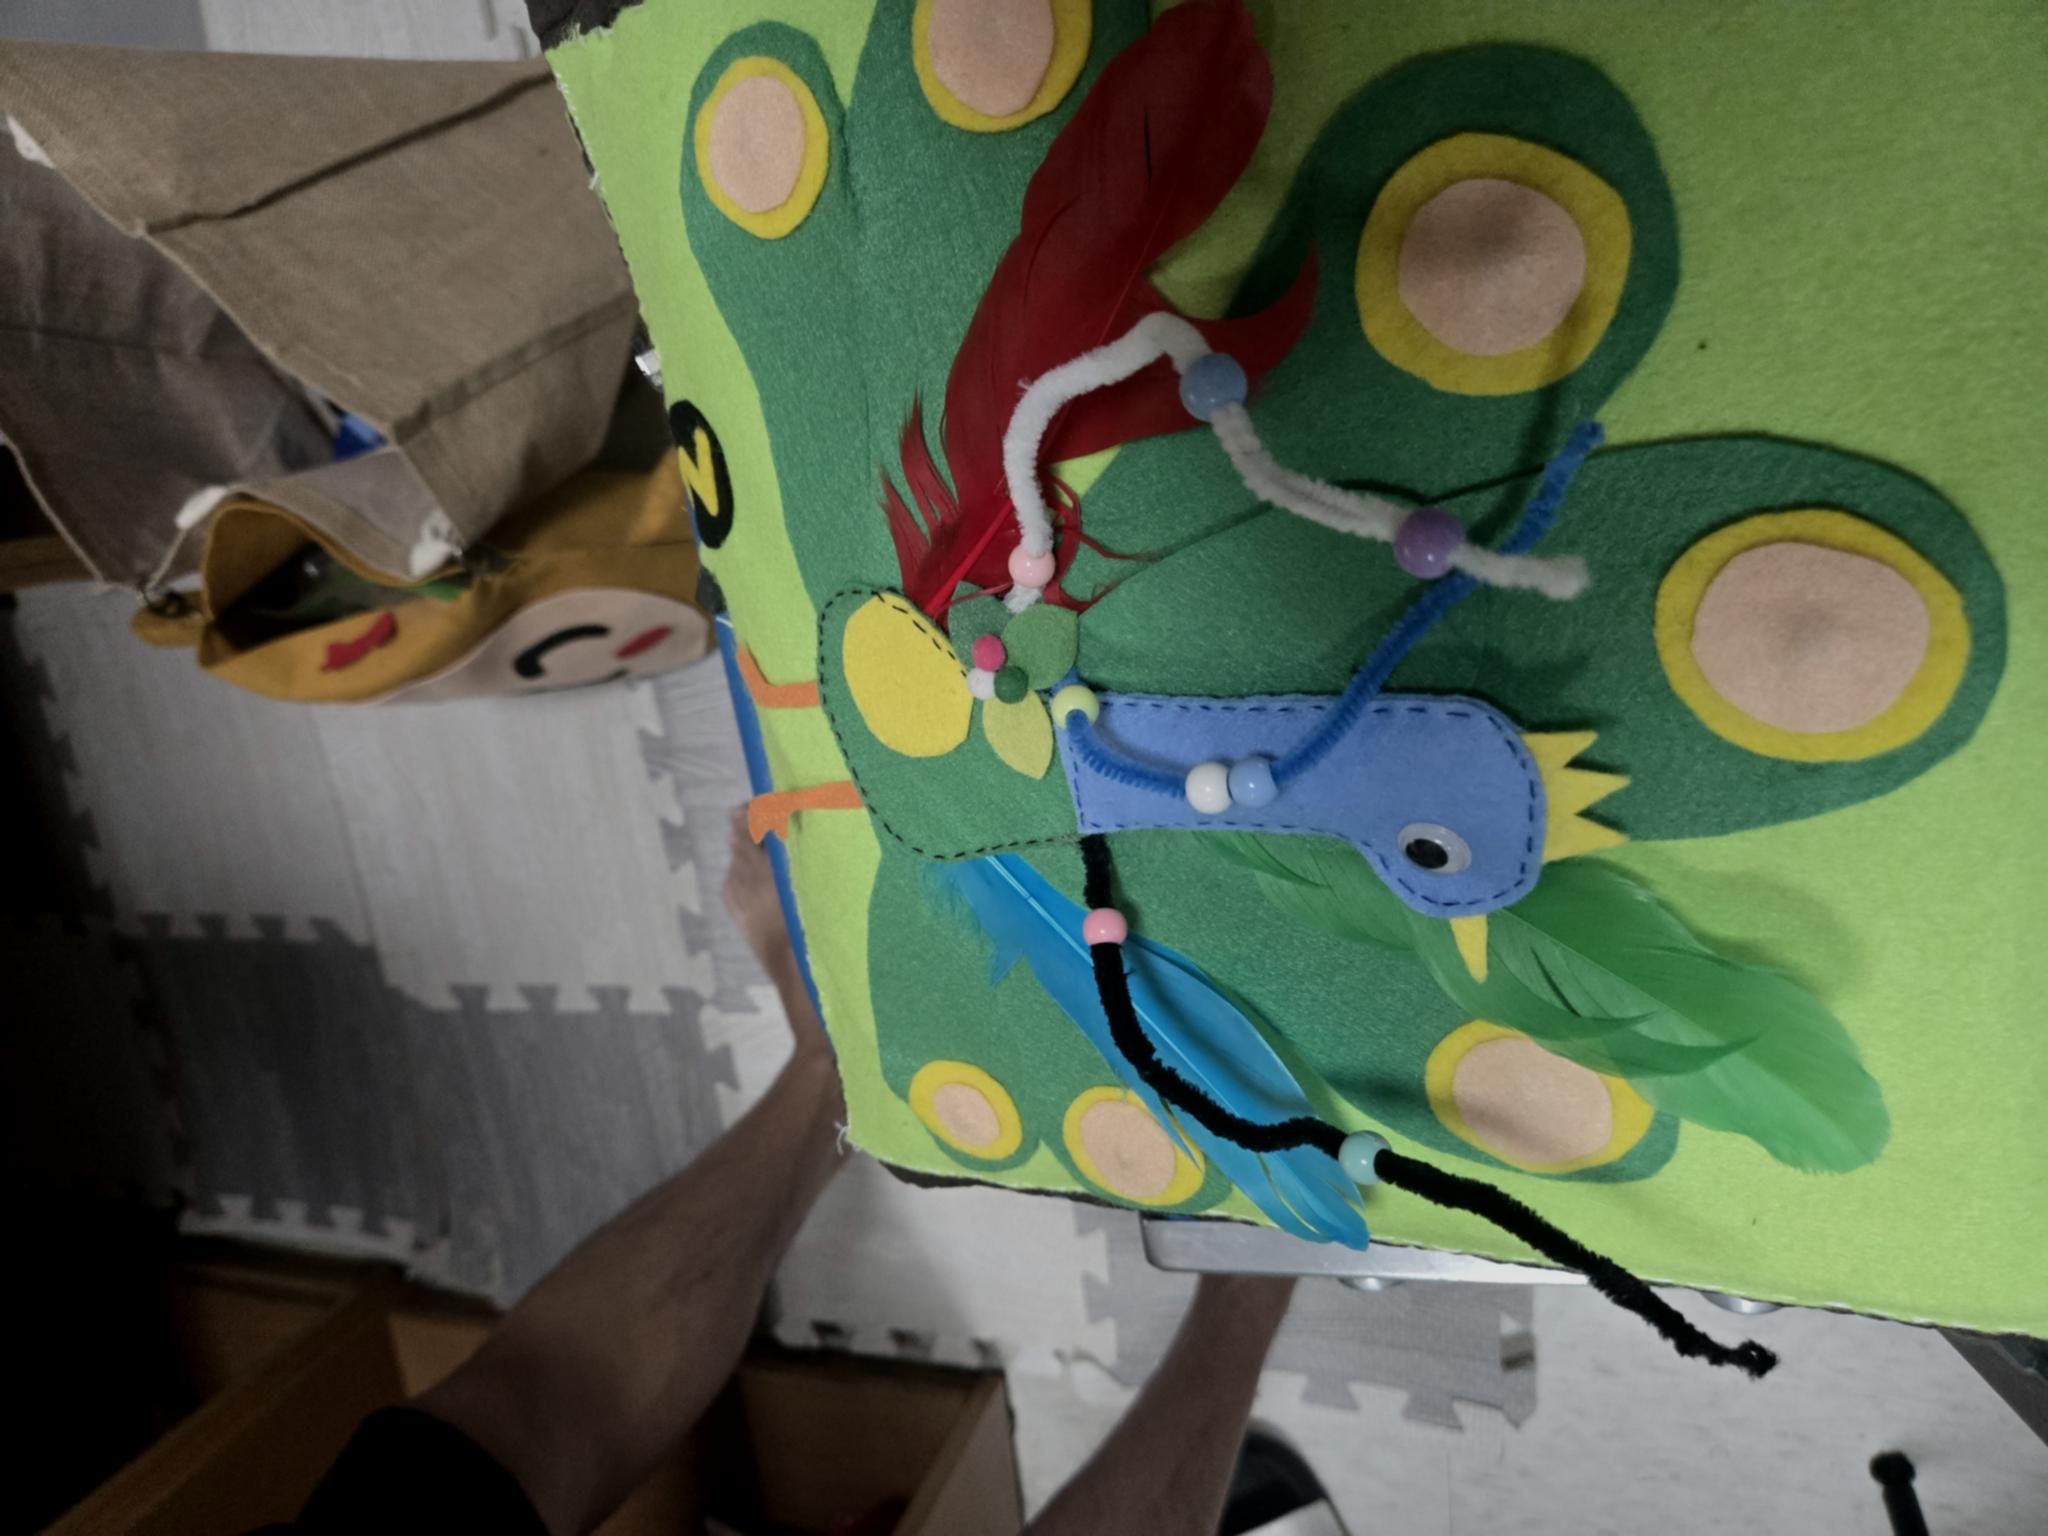bead: (1170, 335, 1260, 437), (1396, 487, 1468, 581), (1337, 1121, 1401, 1189), (1226, 746, 1290, 814), (1044, 677, 1118, 731), (999, 536, 1063, 598), (1178, 761, 1230, 821), (1076, 902, 1130, 952)
